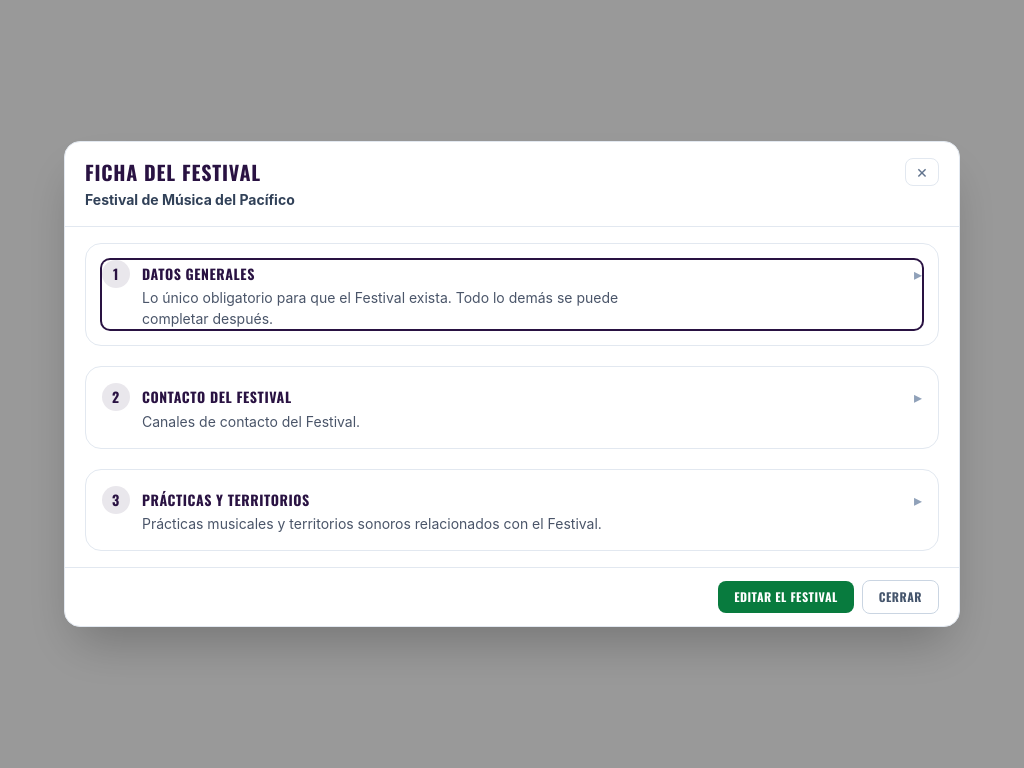
Test case: FichaFestivalComponent · la misma vista para leer, editar y crear › «Editar» habilita los campos sin cambiar de pantalla
Click the button that starts with "Datos generales". click: (512,295)
box: [102,260,922,329]
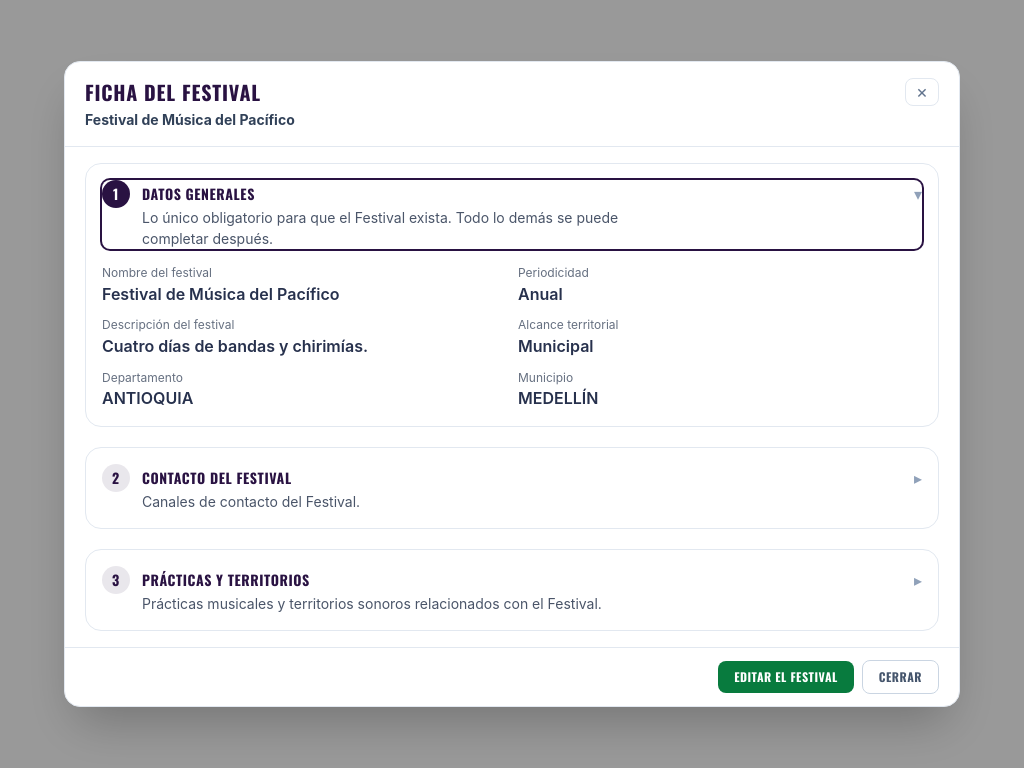
Click the button "Editar el Festival". click: (786,677)
box: [718,661,854,693]
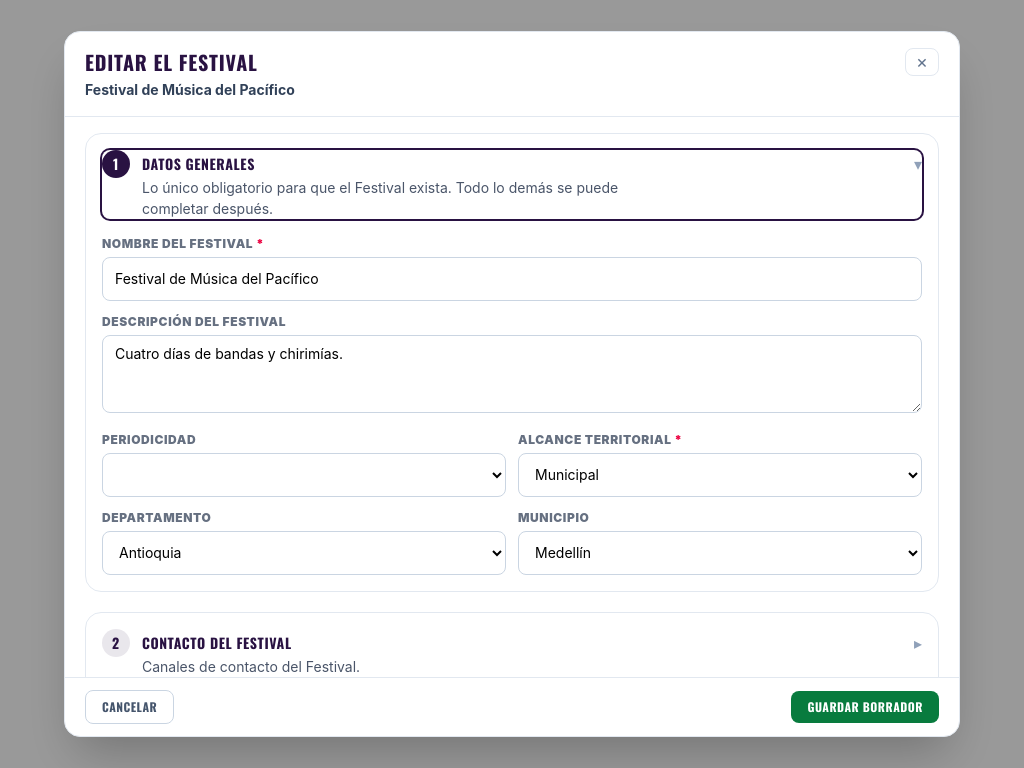
Check: the field named "nombre" holds "Festival de Música del Pacífico", box [102,257,922,301]
